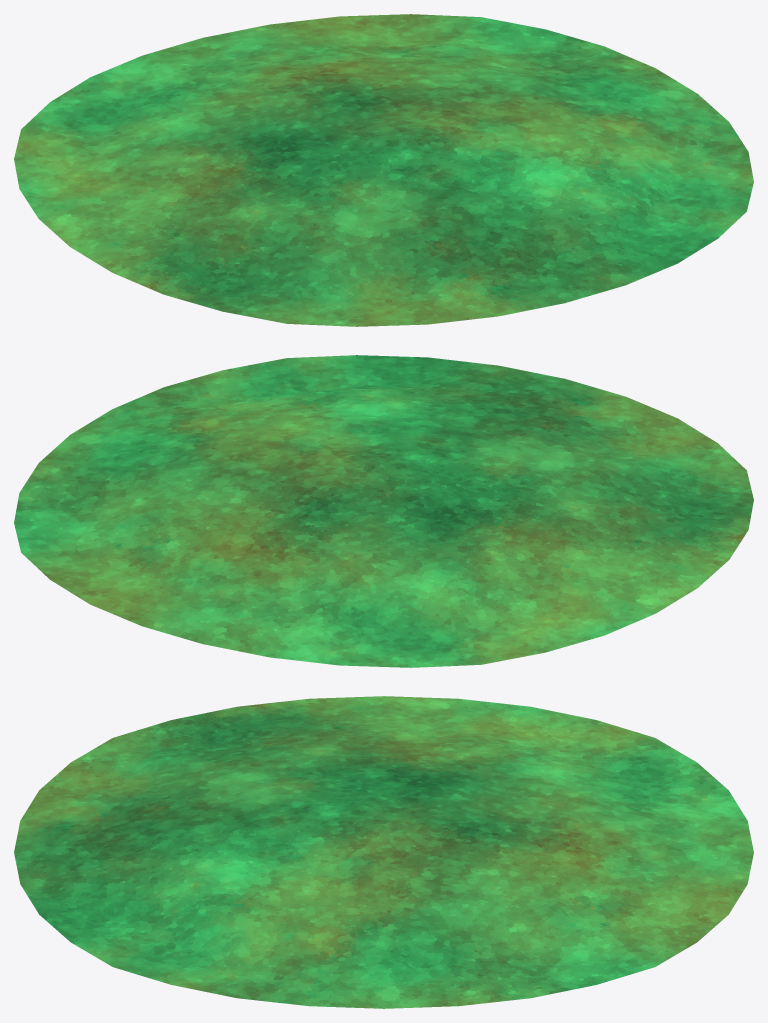
Rendered from floor.glb.
The picture shows the model from 3 angles, top to bottom: view 1: azimuth 30°, elevation 25°; view 2: azimuth 150°, elevation 25°; view 3: azimuth 270°, elevation 25°; orthographic projection. The views are drawn at different scales.
Visible parts, largest first — view 1: floor; view 2: floor; view 3: floor.
Part boxes in pixels (x1,y1,x2,y2): floor: (14,14,753,326); floor: (14,355,753,667); floor: (14,696,753,1008).
Bounding box in the file's own units: 18.33 × 1.1 × 18.33.
Materials: 1 (1 with a texture image).
